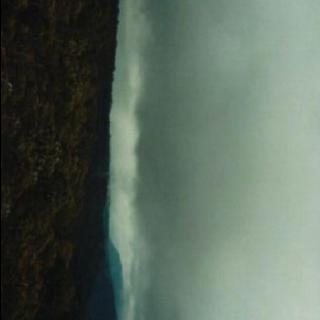Stratocumulus: (121, 0, 320, 320)
